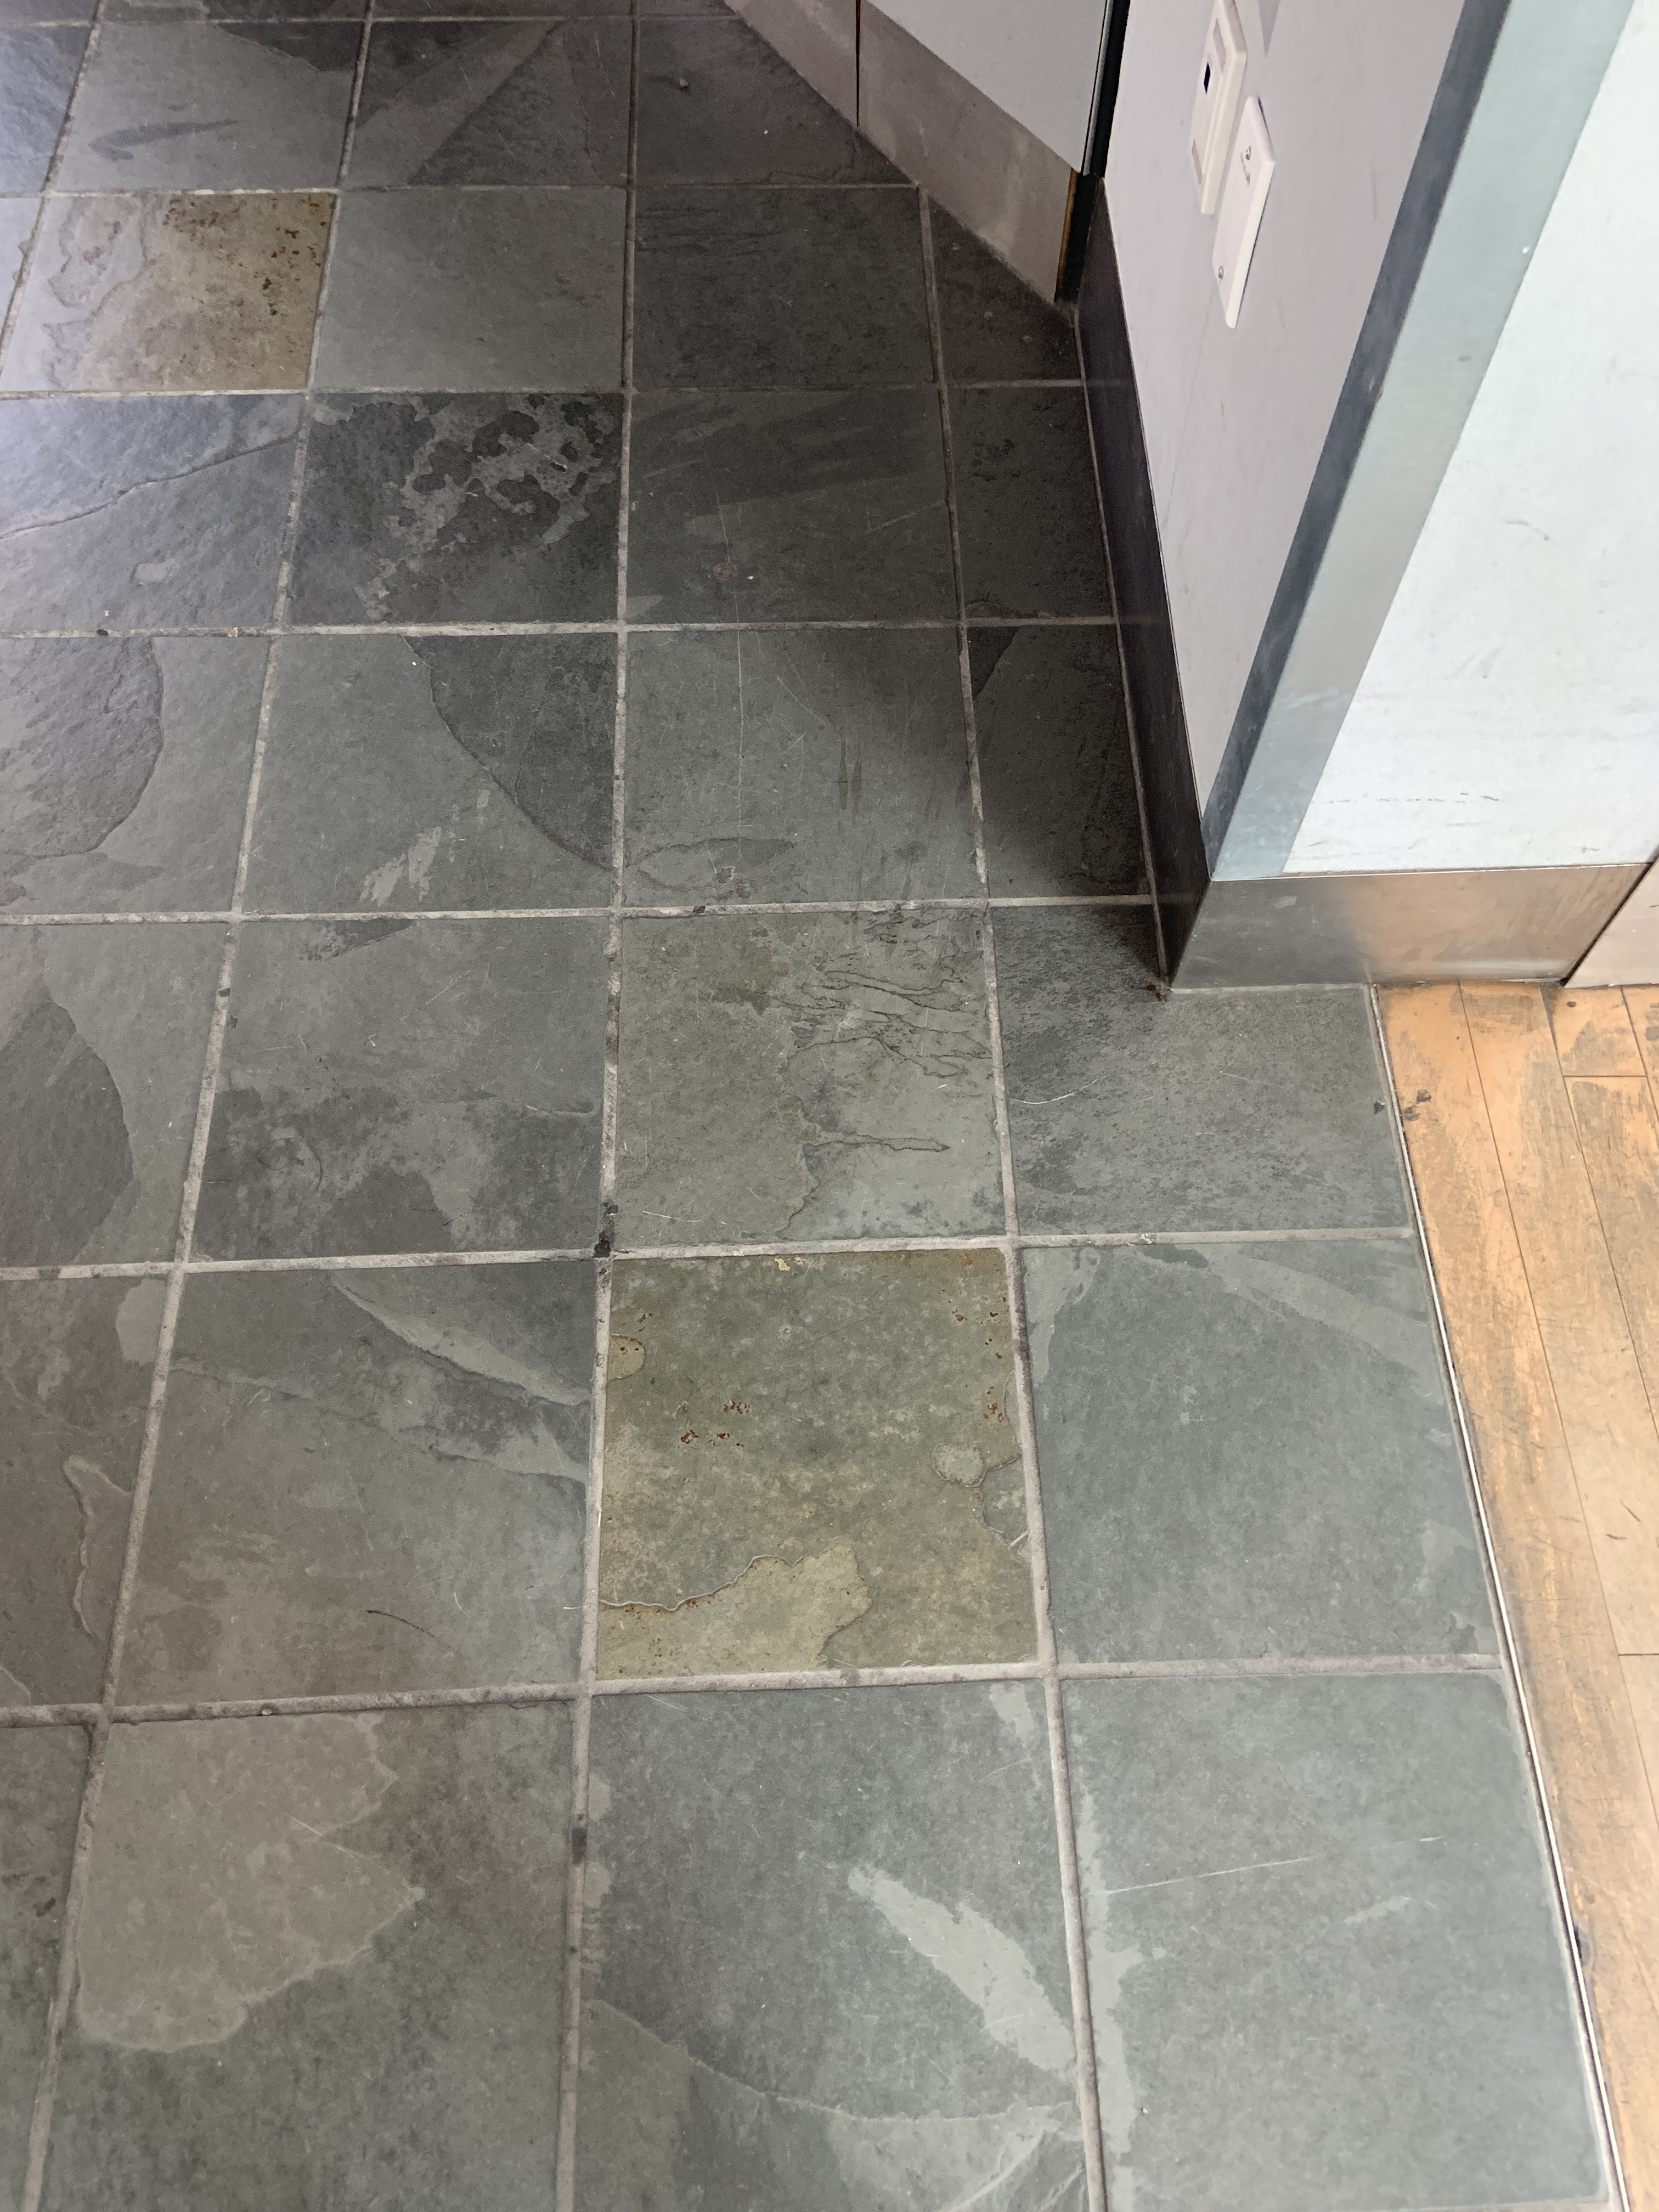Defect: (606, 1249, 1040, 1688)
